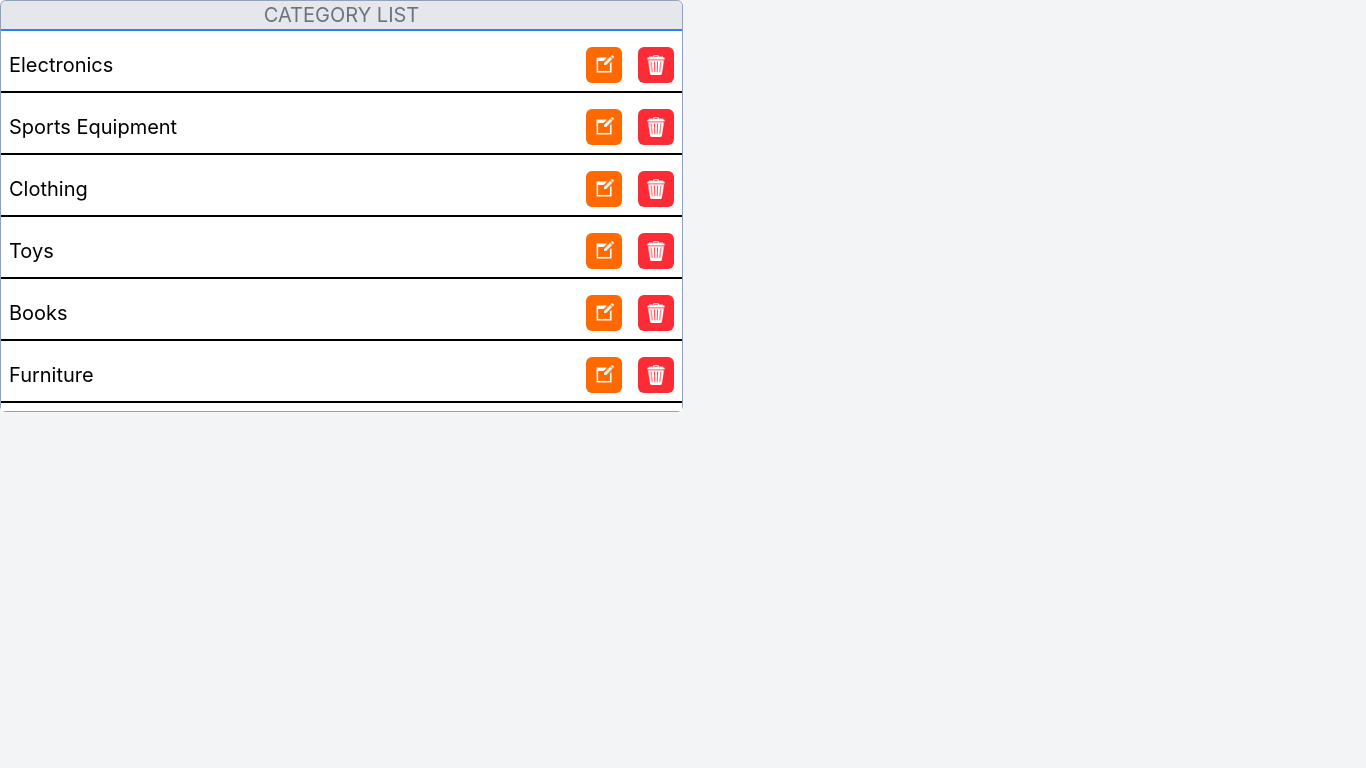
it: CategoryList › should render confirmation modal when deleting an item from the list
Step 1. Click the 2nd button with test id "delete-button" → (656, 127), box [638,109,674,145]
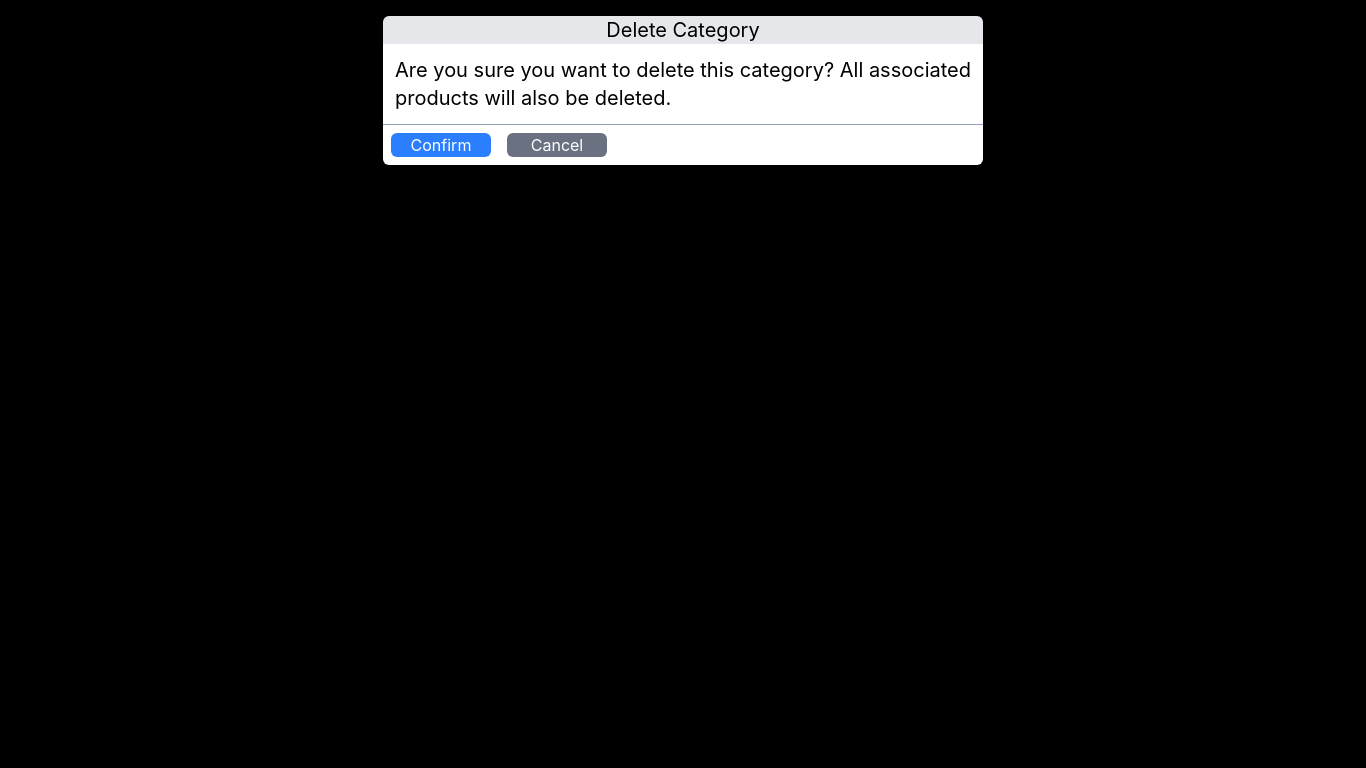
Now the text "Are you sure you want to delete this category? All associated products will also be deleted." is shown, box [395,58,971,110]
